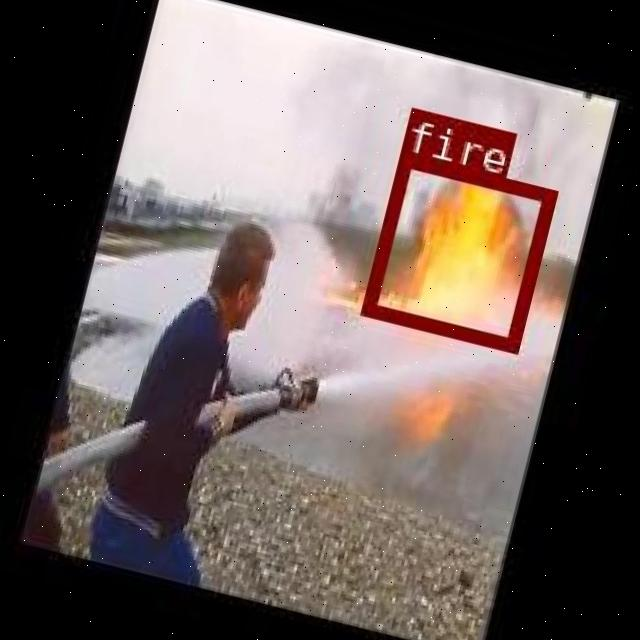fire: (360, 150, 554, 349)
